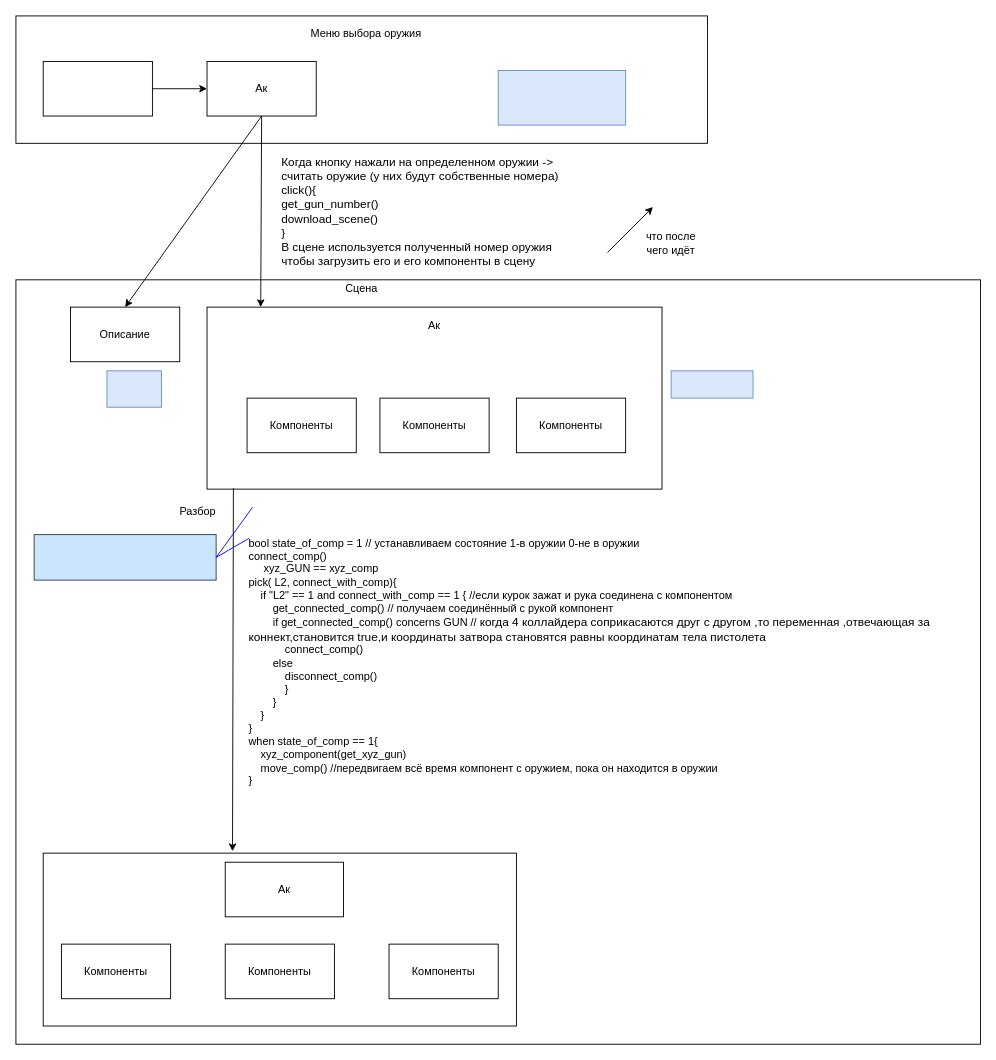
This 996x1060 diagram has some shape labels left out. Here are the shapes that lost their labels. From the top down, the centre of each, then its label:
(97,88): Автоматы
(561,97): Просто выпадающие окна. Вид -> оружие
(134,388): описание оружия
(711,384): В ак его компоненты
(124,557): Используется для того, чтобы компонент был соединён с оружием
